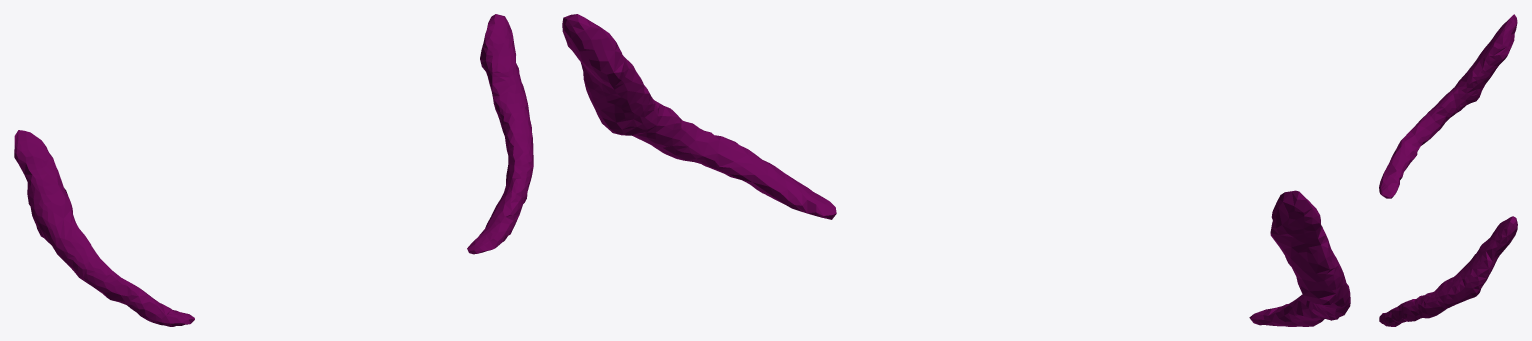
Rendered from 108-TEM-temporal area TE, medial part-('0.4980', '0.0000', '0.4000').obj.
The picture shows the model from 3 angles, left to right: view 1: azimuth 30°, elevation 25°; view 2: azimuth 150°, elevation 25°; view 3: azimuth 270°, elevation 25°; orthographic projection. The views are drawn at different scales.
Size of the model in its own units: 353 by 111 by 98.09.
